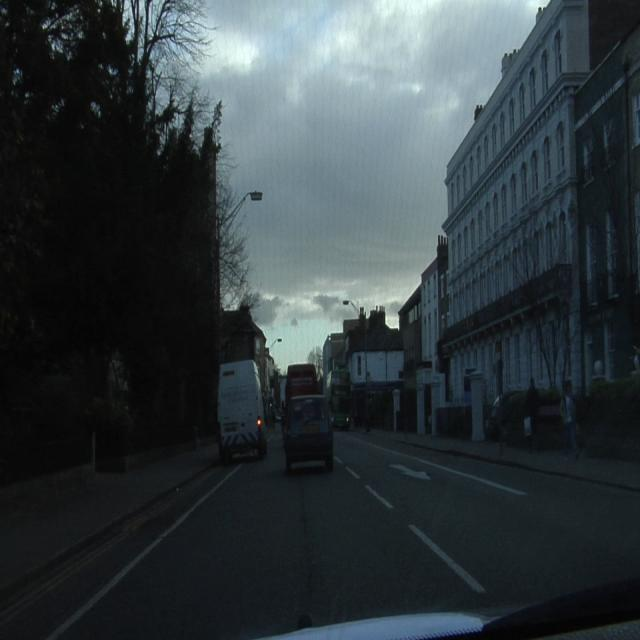Building: (424, 0, 639, 435), (326, 309, 402, 429)
Car: (284, 396, 332, 470)
Road: (2, 432, 639, 634)
Tree: (1, 0, 220, 396)
Truck_Bus: (219, 361, 266, 460)
